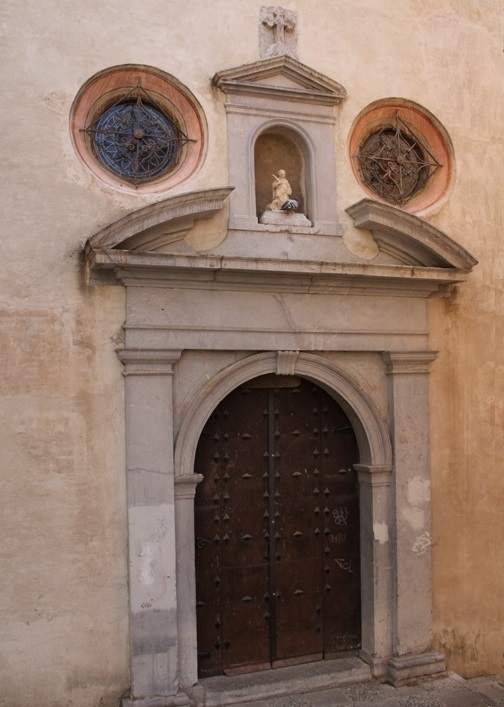arco-medio-punto: (185, 366, 378, 490), (247, 113, 318, 165)
fronton: (212, 55, 348, 103)
fronton-partido: (78, 182, 481, 288)
